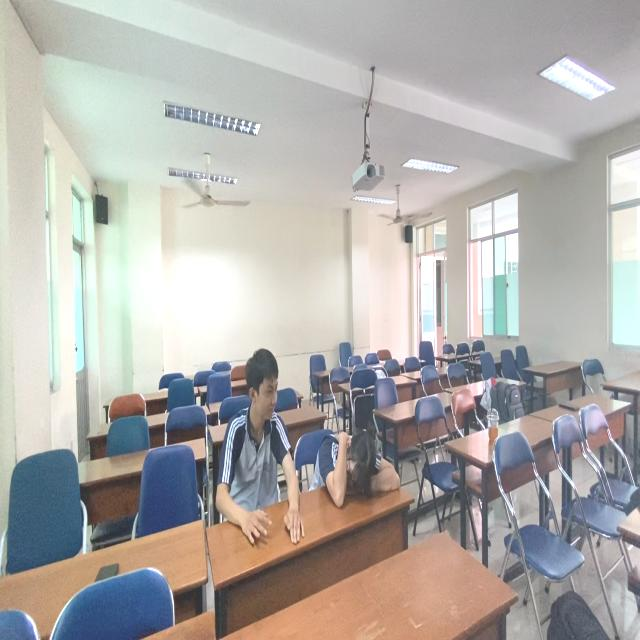sleep: (313, 425, 405, 529)
